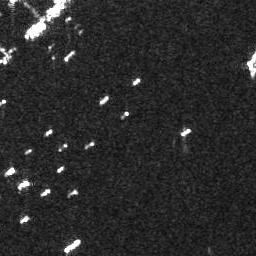ship: (29, 22, 46, 38), (64, 239, 81, 253), (18, 179, 31, 191), (63, 51, 75, 61), (5, 165, 15, 176), (181, 127, 192, 137), (132, 77, 142, 86), (41, 188, 50, 198), (84, 141, 96, 148), (20, 215, 29, 224), (100, 95, 109, 104), (43, 129, 54, 136), (69, 189, 78, 197), (57, 166, 65, 174), (25, 149, 32, 154)
